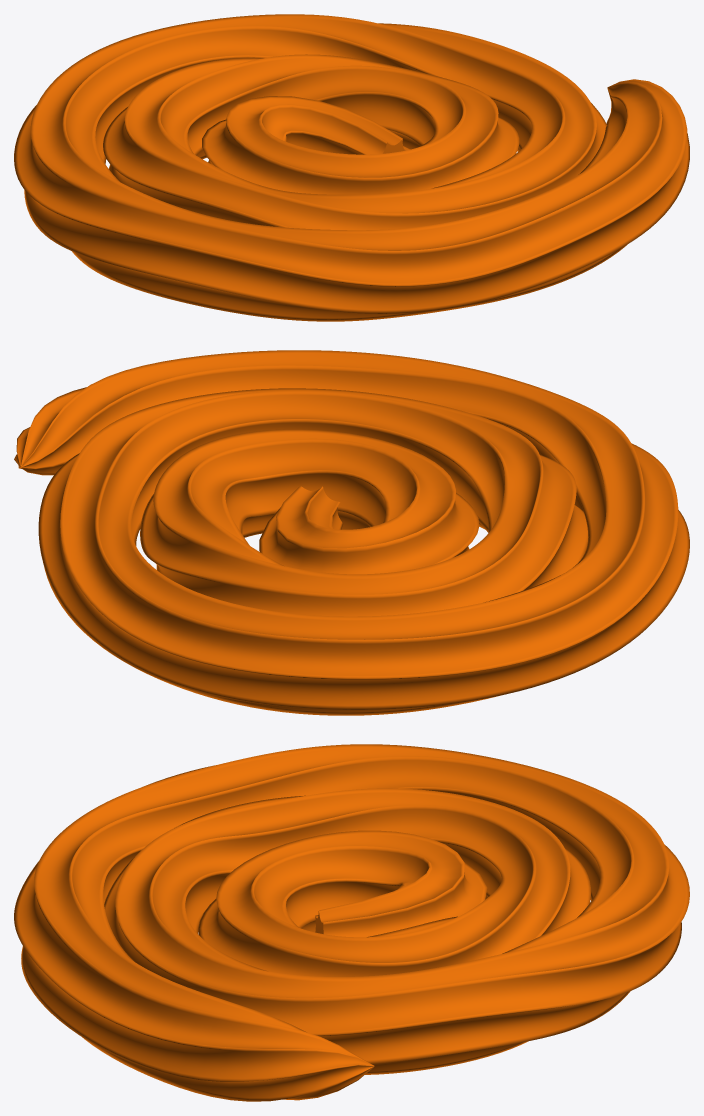
File: Muruk.fbx
The picture shows the model from 3 angles, top to bottom: view 1: azimuth 30°, elevation 25°; view 2: azimuth 150°, elevation 25°; view 3: azimuth 270°, elevation 25°; orthographic projection. The views are drawn at different scales.
Visible parts, largest first — view 1: NurbsPath; view 2: NurbsPath; view 3: NurbsPath.
Boxes of the visible parts, x1,y1,x2,y2 form: NurbsPath: (14,14,689,321); NurbsPath: (14,350,689,715); NurbsPath: (14,744,689,1101).
Bounding box in the file's own units: 360 × 49.27 × 336.
